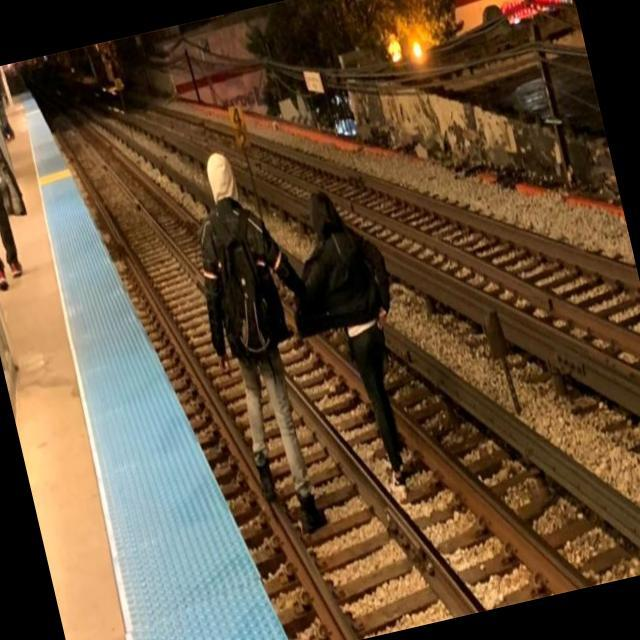person: (171, 118, 362, 575), (272, 161, 450, 538), (0, 67, 41, 284)
